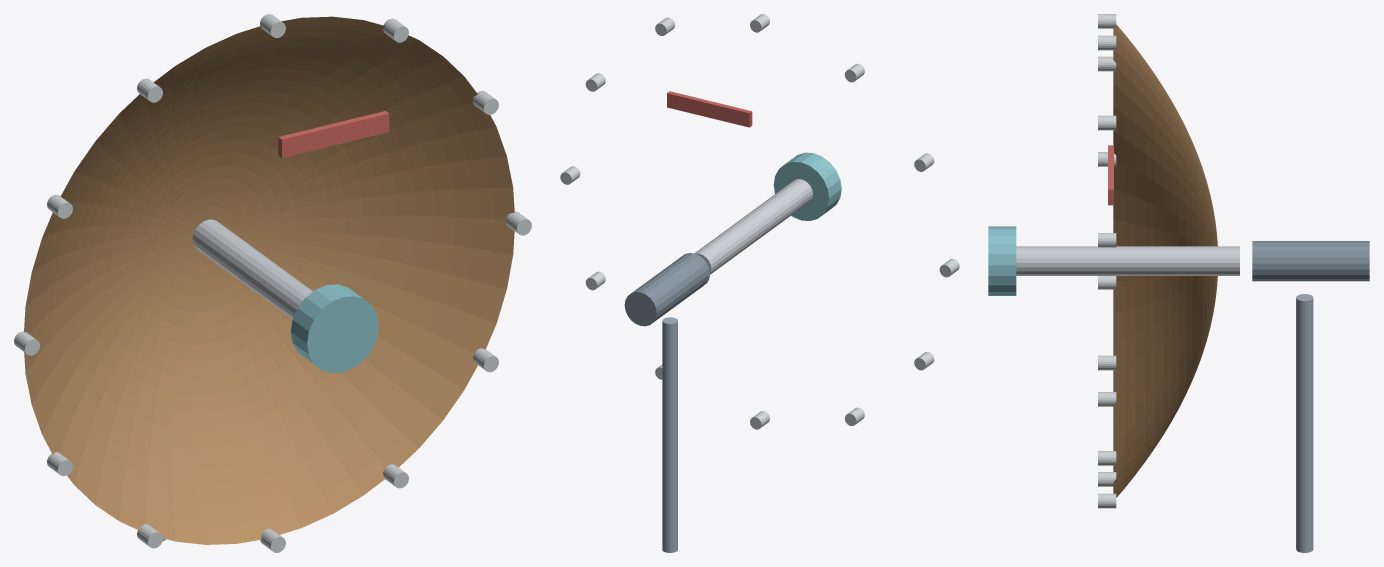
File: sat_dish_damaged.glb
3 renders of one model, left to right at view 1: azimuth 30°, elevation 25°; view 2: azimuth 150°, elevation 25°; view 3: azimuth 270°, elevation 25°, orthographic. The views are drawn at different scales.
Parts seen in each view (by area): view 1: parabolic_reflector, feed_horn, feed_strut, rim_fault_marker; view 2: mount_spine, feed_strut, feed_hub, feed_horn, rim_fault_marker; view 3: parabolic_reflector, feed_strut, feed_hub, mount_spine, feed_horn.
Boxes of the visible parts, x1=… form: parabolic_reflector: x1=24, y1=16, x2=514, y2=544; feed_horn: x1=290, y1=284, x2=378, y2=373; feed_strut: x1=192, y1=219, x2=312, y2=318; rim_fault_marker: x1=278, y1=111, x2=389, y2=157; mount_spine: x1=662, y1=317, x2=677, y2=552; feed_strut: x1=694, y1=179, x2=812, y2=274; feed_hub: x1=624, y1=253, x2=709, y2=326; feed_horn: x1=773, y1=152, x2=841, y2=220; rim_fault_marker: x1=667, y1=91, x2=752, y2=127; parabolic_reflector: x1=1113, y1=21, x2=1217, y2=497; feed_strut: x1=1016, y1=246, x2=1239, y2=275; feed_hub: x1=1252, y1=241, x2=1369, y2=281; mount_spine: x1=1296, y1=294, x2=1313, y2=552; feed_horn: x1=988, y1=226, x2=1016, y2=295.
Size of the model in its own units: 0.804 by 0.917 by 0.6175.
